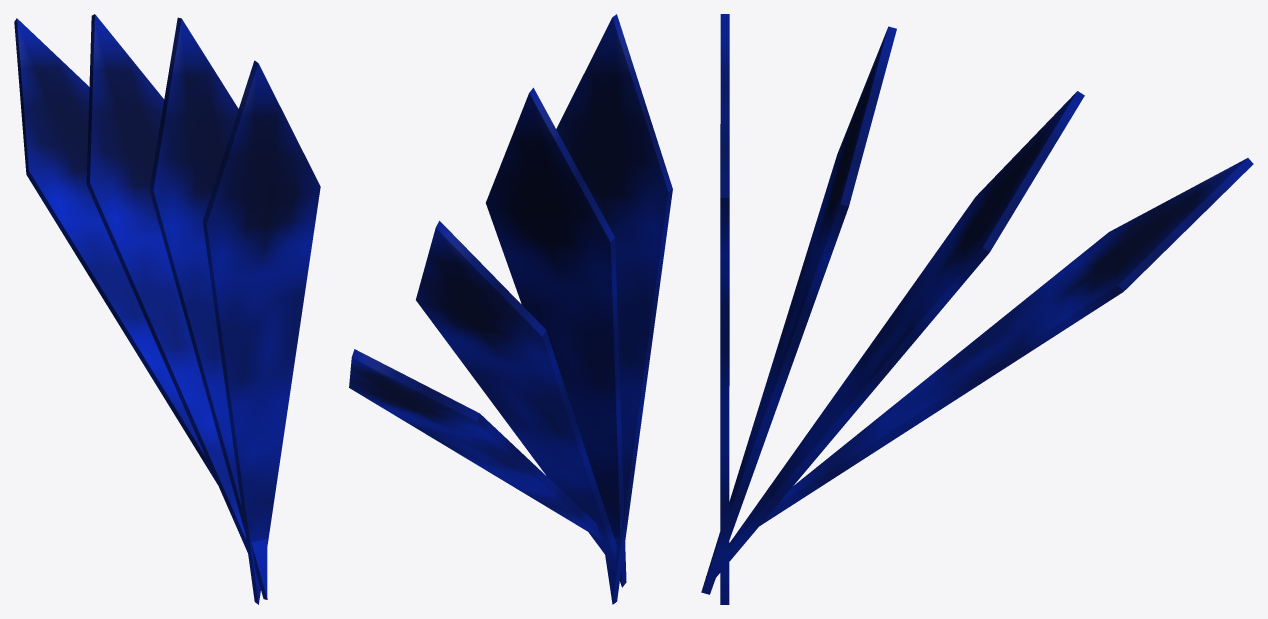
Rendered from feather_03.dae.
3 renders of one model, left to right at view 1: azimuth 30°, elevation 25°; view 2: azimuth 150°, elevation 25°; view 3: azimuth 270°, elevation 25°, orthographic. The views are drawn at different scales.
Visible parts, largest first — view 1: a_feather_03; view 2: a_feather_03; view 3: a_feather_03.
Part boxes in pixels (box(x1,y1,x2,y2)): a_feather_03: box(14, 14, 320, 604); a_feather_03: box(349, 14, 672, 604); a_feather_03: box(701, 14, 1253, 604).
Bounding box in the file's own units: 0.1589 × 0.6127 × 0.7231.
